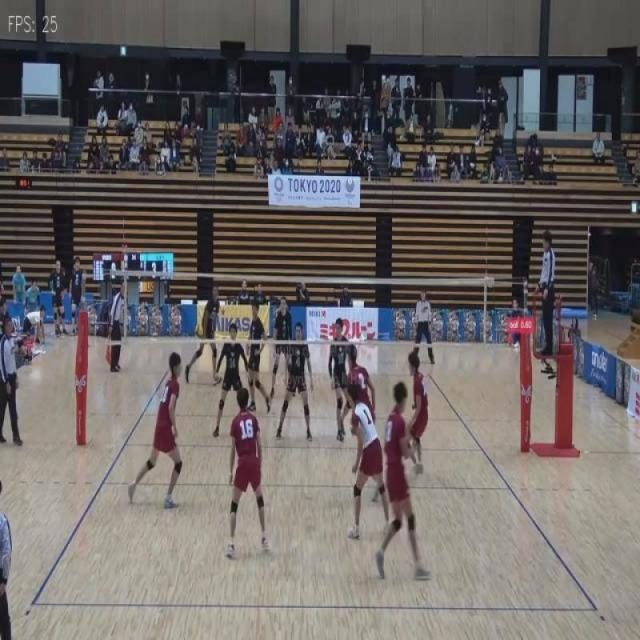volleyball: (194, 324, 204, 338)
